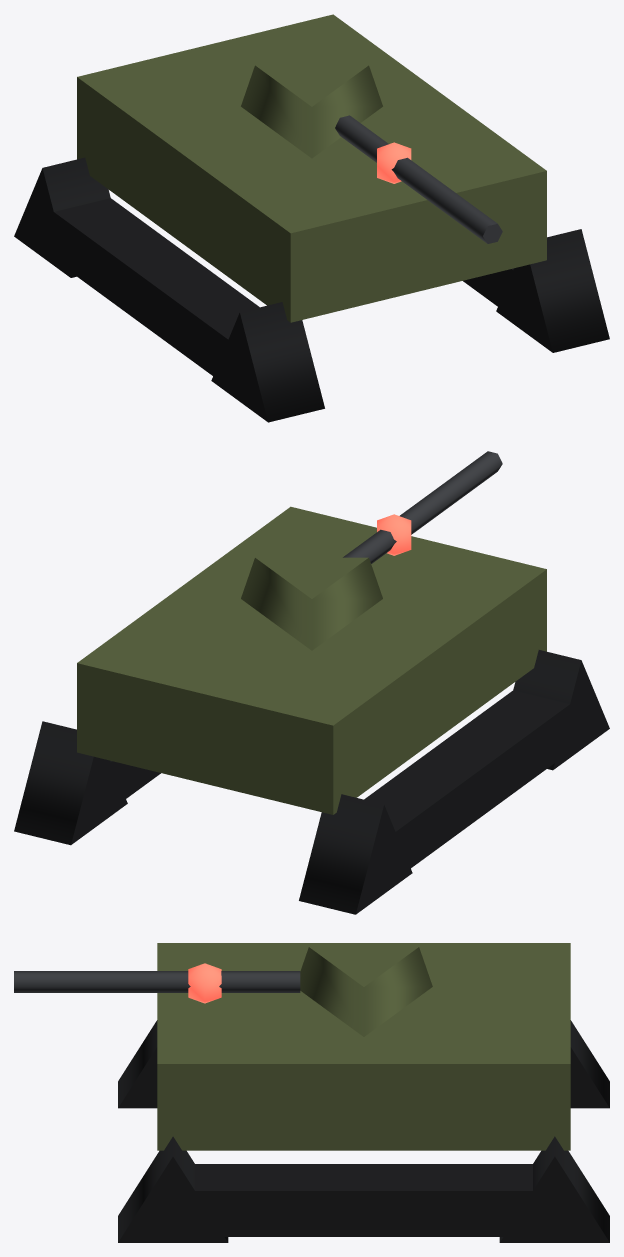
File: unit_mil_ground_drone_a07_lod2.glb
3 views of the same model, one above another, from view 1: azimuth 30°, elevation 25°; view 2: azimuth 150°, elevation 25°; view 3: azimuth 270°, elevation 25° (orthographic). The views are drawn at different scales.
Visible parts, largest first — view 1: body, track_r, turret, track_l; view 2: body, track_r, turret, track_l; view 3: body, track_l, turret, track_r.
Part boxes in pixels (<box>): body: <box>77,14,546,322</box>; track_r: <box>14,157,324,422</box>; turret: <box>241,65,502,243</box>; track_l: <box>463,229,609,352</box>; body: <box>77,506,546,814</box>; track_r: <box>299,650,609,914</box>; turret: <box>241,451,502,650</box>; track_l: <box>14,721,160,845</box>; body: <box>157,943,570,1150</box>; track_l: <box>118,1136,609,1242</box>; turret: <box>14,947,432,1036</box>; track_r: <box>118,1020,609,1108</box>.
Bounding box in the file's own units: 1.2 × 0.7 × 1.87.
